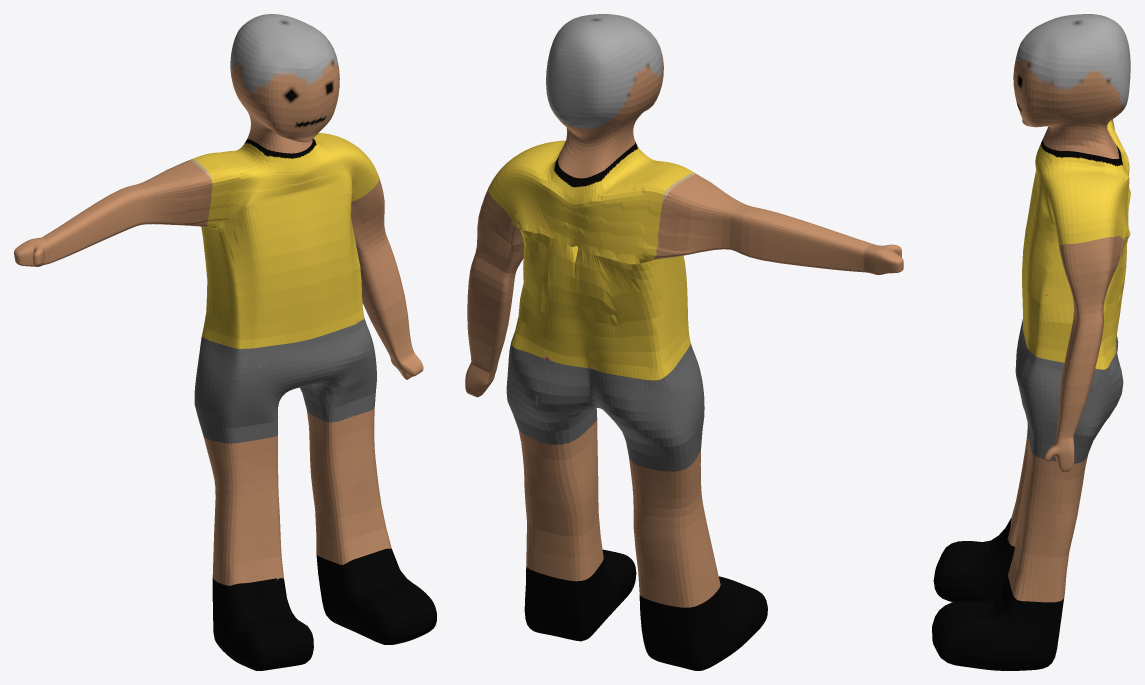
The model's file is Arbitro.obj.
The picture shows the model from 3 angles, left to right: view 1: azimuth 30°, elevation 25°; view 2: azimuth 150°, elevation 25°; view 3: azimuth 270°, elevation 25°; orthographic projection. The views are drawn at different scales.
Parts seen in each view (by area): view 1: Arbitro; view 2: Arbitro; view 3: Arbitro.
Part boxes in pixels (x1=…): Arbitro: x1=14, y1=14, x2=436, y2=670; Arbitro: x1=465, y1=14, x2=903, y2=670; Arbitro: x1=932, y1=14, x2=1130, y2=670.
Size of the model in its own units: 1.23 by 1.75 by 0.5157.
Materials: 1 (1 with a texture image).
